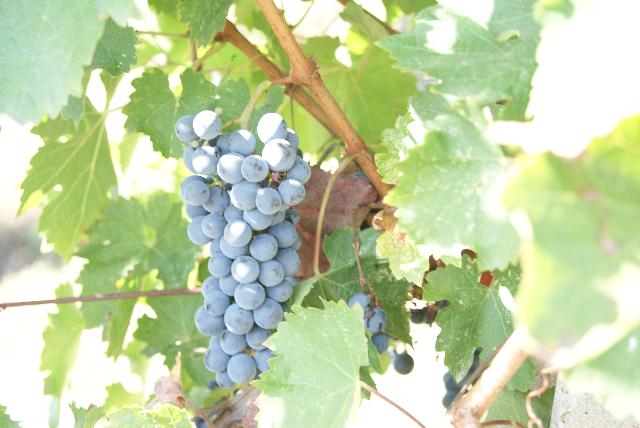grapes: (175, 110, 311, 389), (201, 122, 204, 124)
